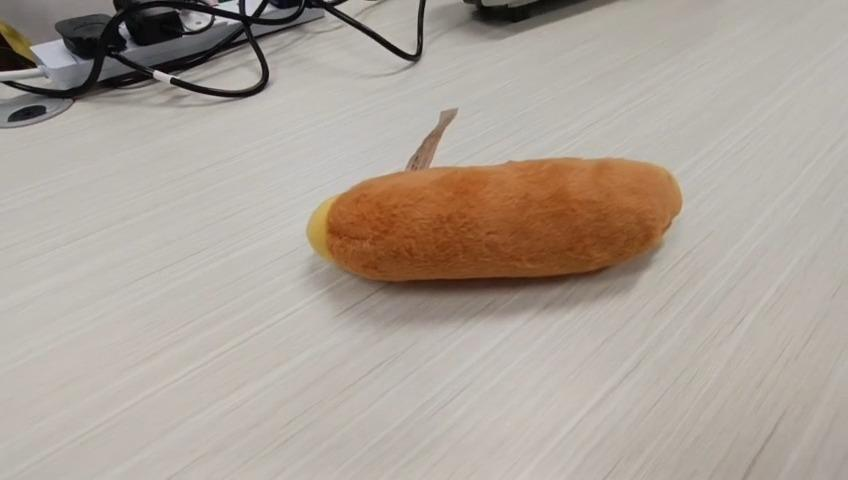hotdog: (305, 107, 683, 282)
